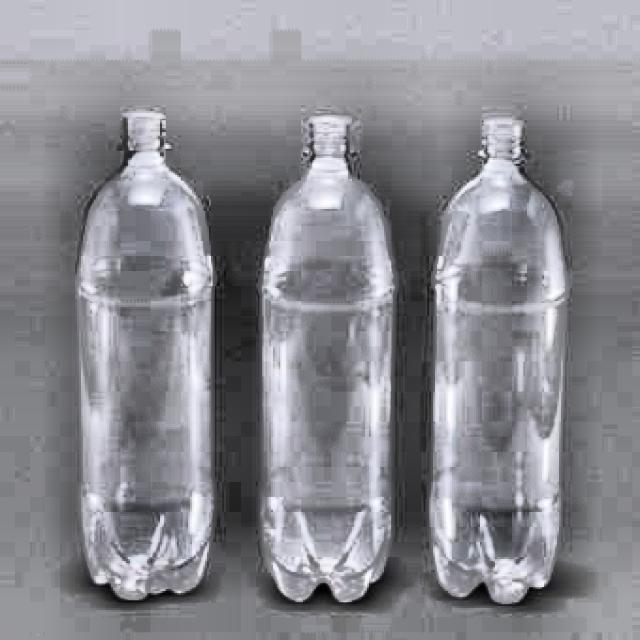Bottles: (242, 105, 406, 609), (68, 95, 223, 608), (425, 118, 569, 609)
